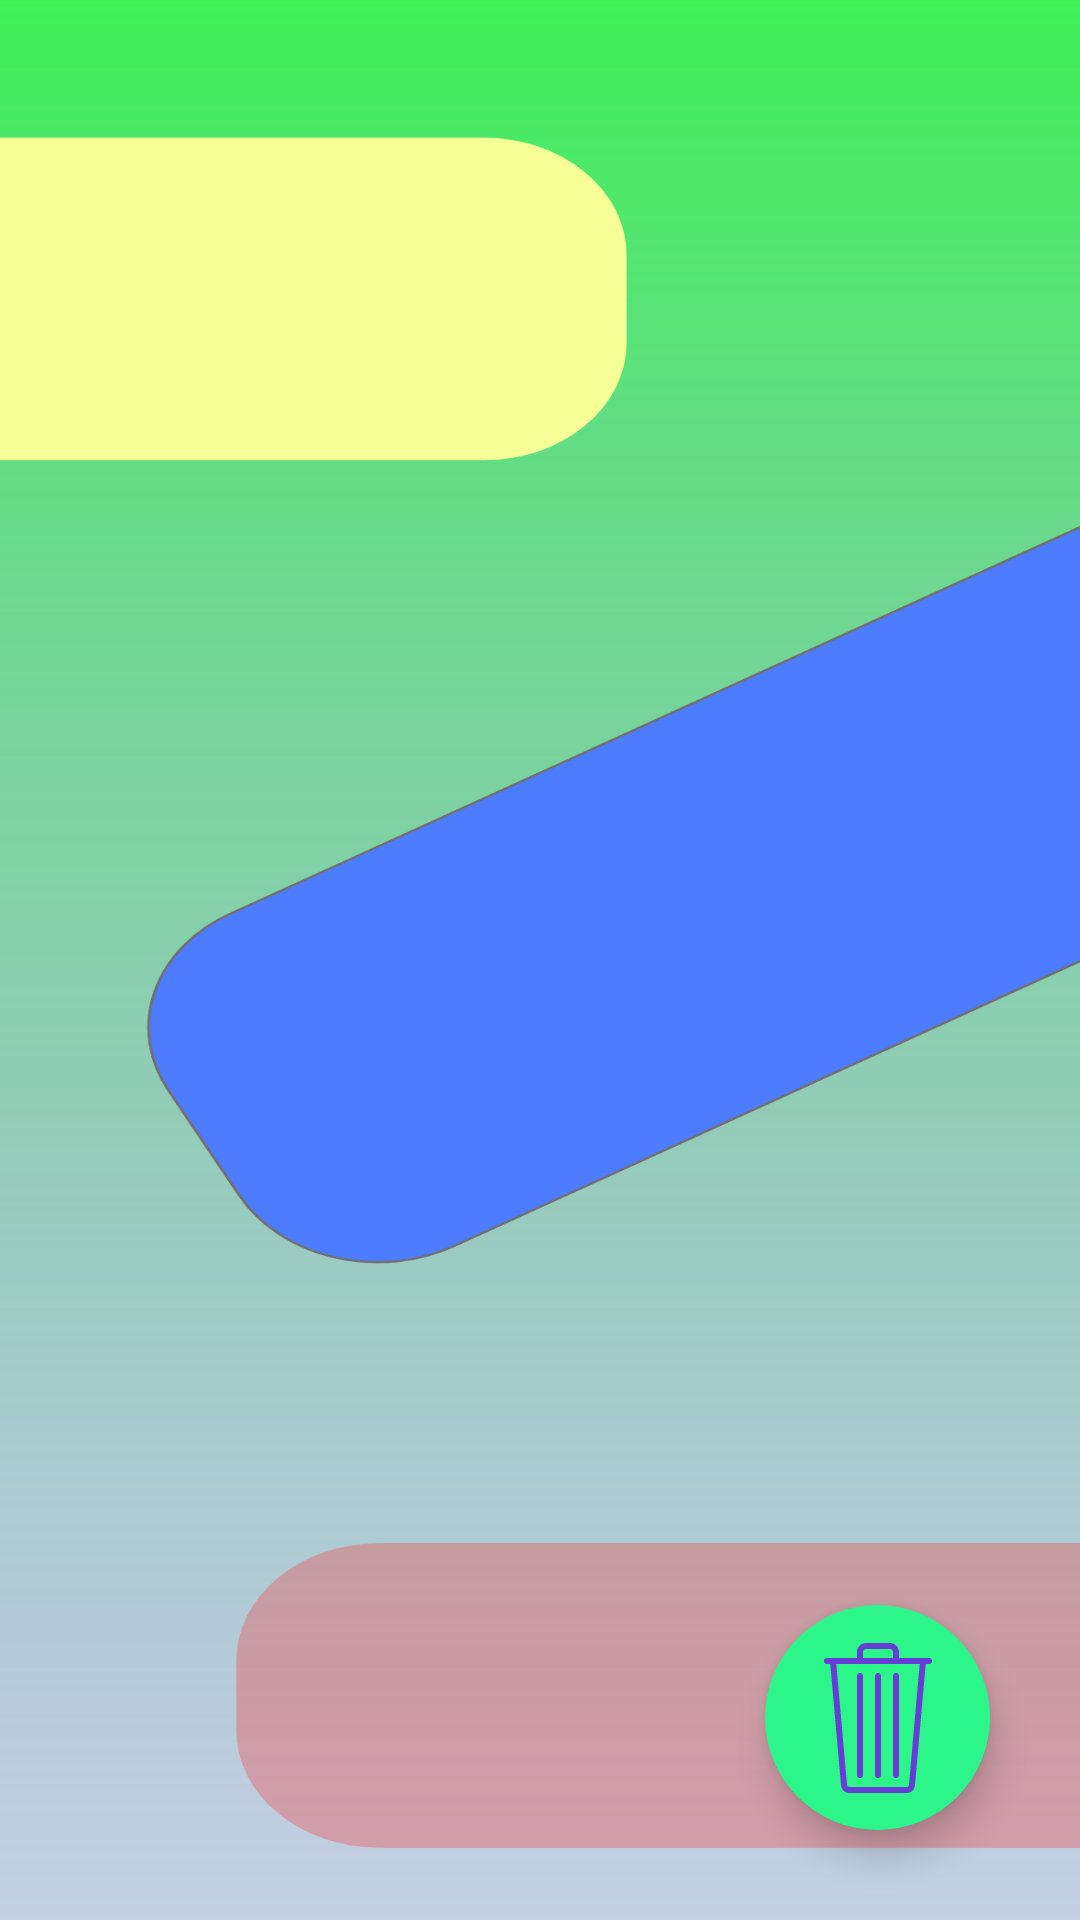

Icon click points for this 1080 × 1920 phone screenshot, format point (x, y):
trash: point (877, 1717)
